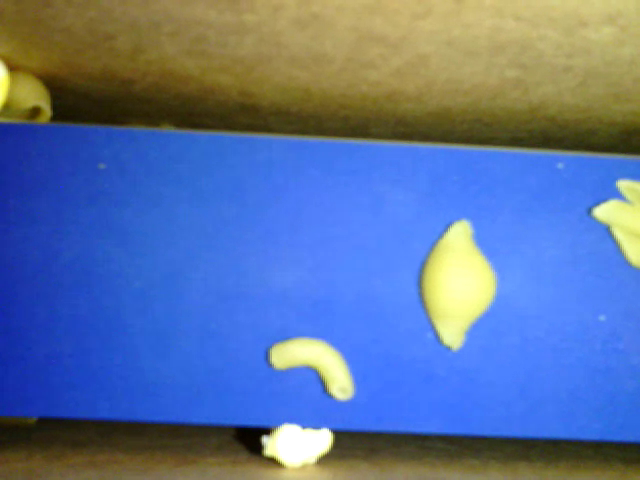elbow: (268, 335, 355, 405)
shell: (418, 217, 497, 357), (3, 66, 55, 127)
